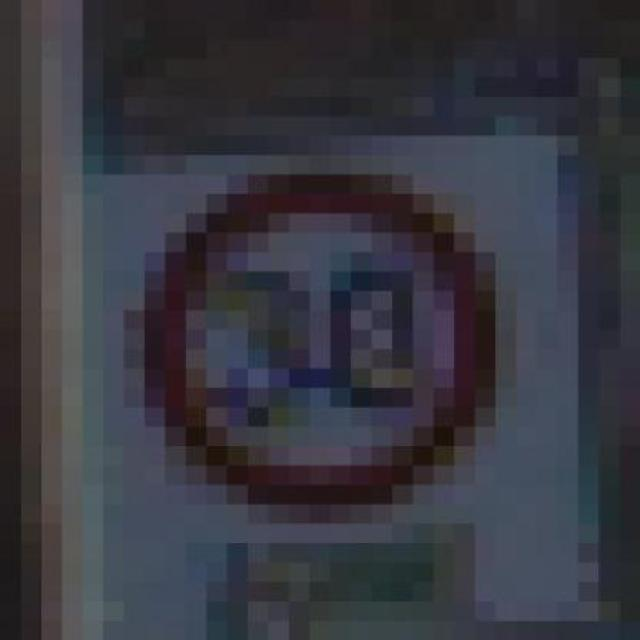Speed Limit 30 KMPh: (103, 155, 557, 543)
